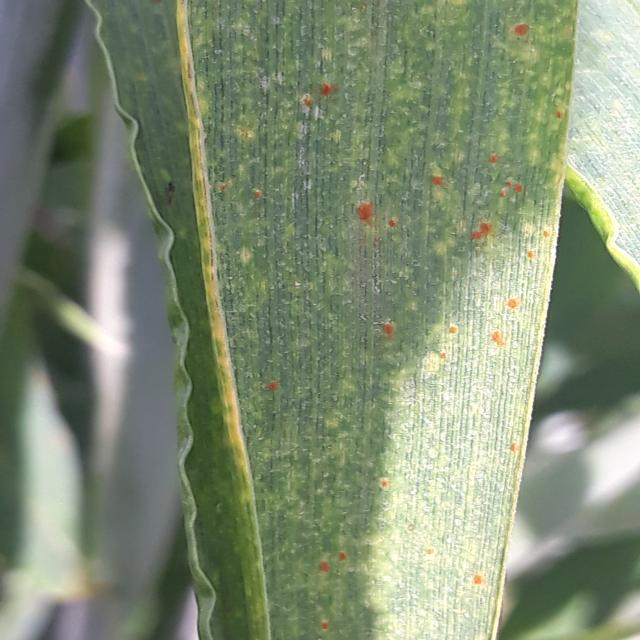orang_rust: (83, 0, 588, 640)
